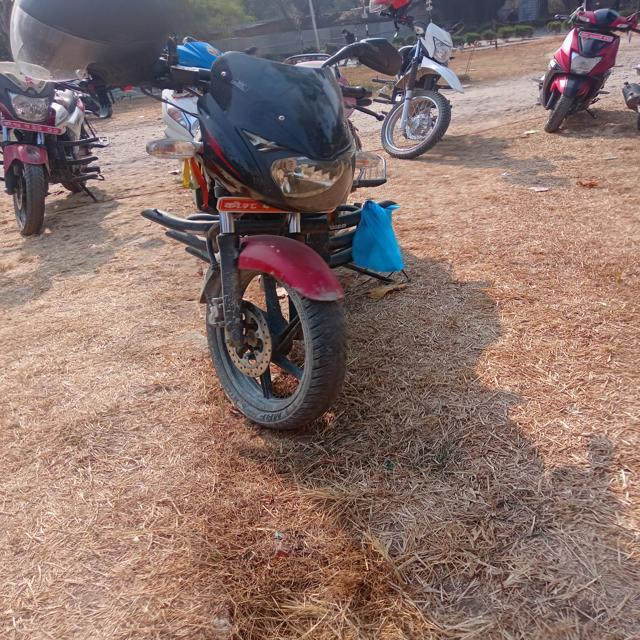license_plate: (190, 136, 370, 266)
